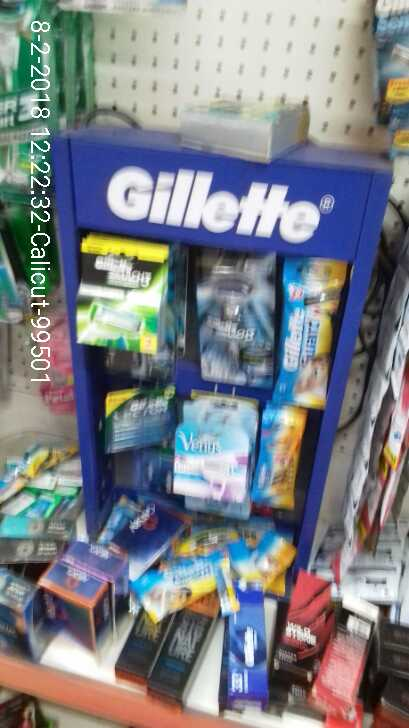gillette: (65, 246, 185, 351), (133, 544, 241, 612), (170, 420, 244, 514), (280, 264, 331, 399), (93, 389, 171, 468), (258, 404, 295, 507)
